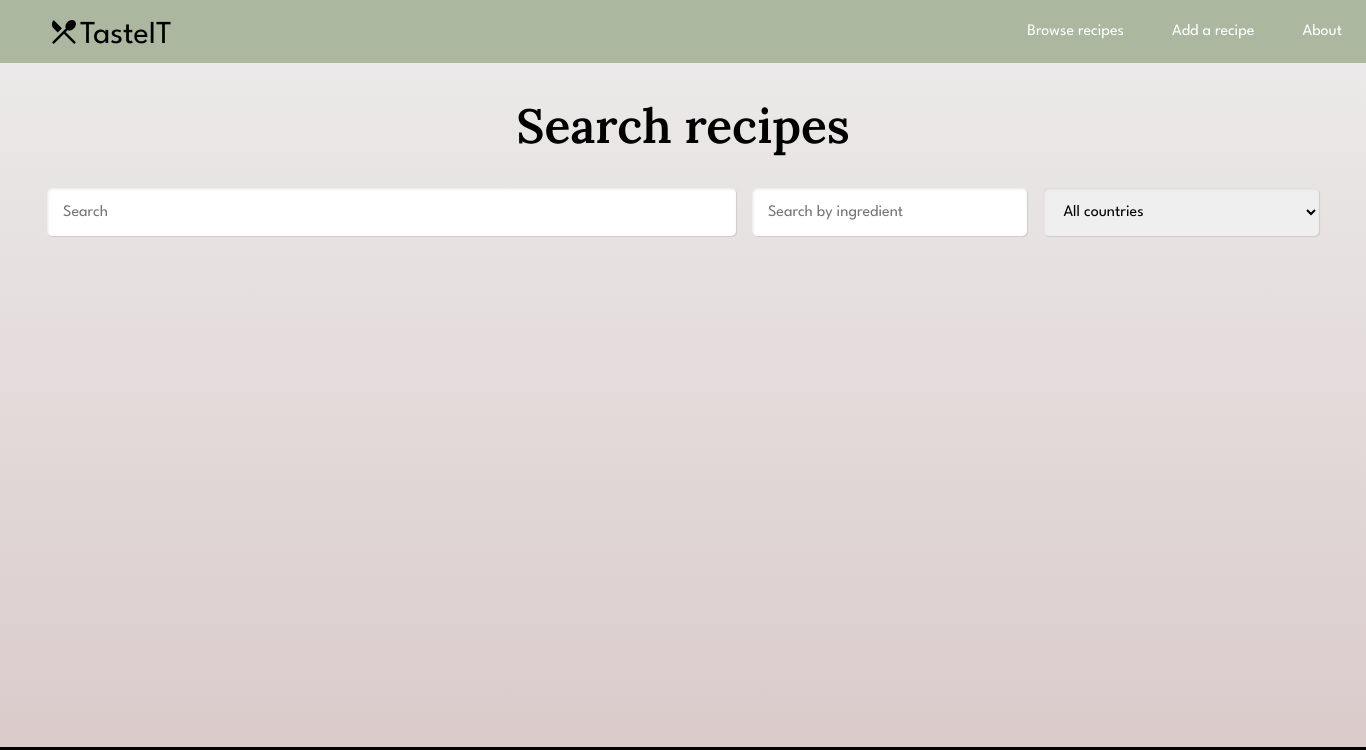
Test case: Navigation tests › Navigated to add recipe page, it's rendered correctly
Click the link "Add a recipe" at [1213, 32], box [1172,24,1254,39]
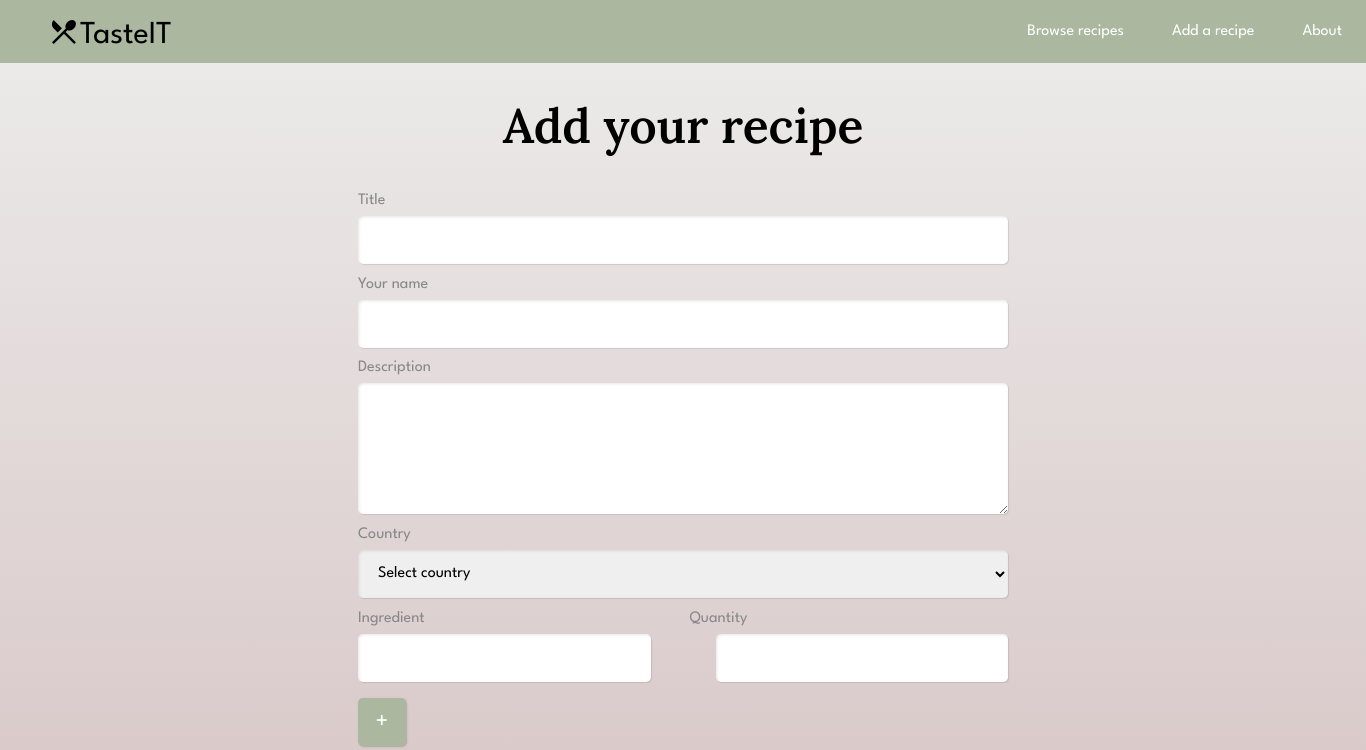
Result: the heading "Add your recipe" is shown at [503,95,863,156]
